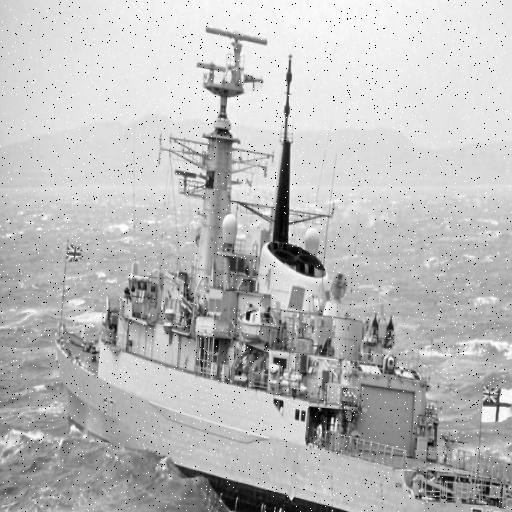Fragata: (51, 25, 512, 512)
